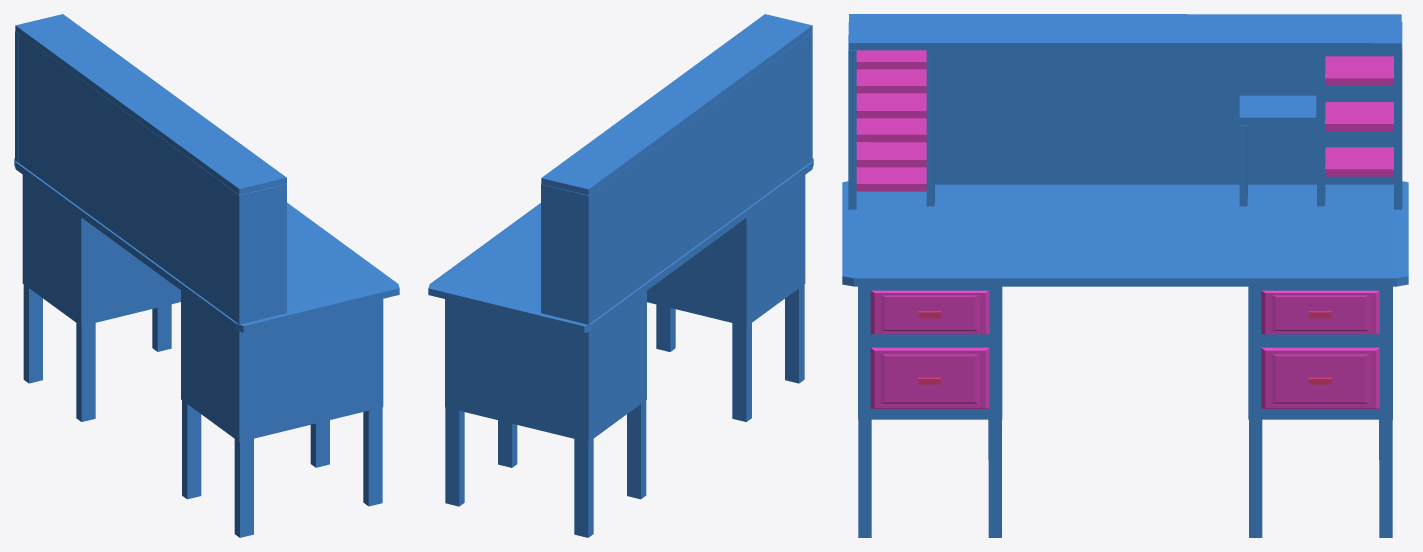
The model's file is adult desk.fbx.
3 renders of one model, left to right at view 1: azimuth 30°, elevation 25°; view 2: azimuth 150°, elevation 25°; view 3: azimuth 270°, elevation 25°, orthographic. The views are drawn at different scales.
Parts seen in each view (by area): view 1: top frame, big body, big body 2, desk top, short legs, short legs.001; view 2: top frame, big body 2, big body, desk top, short legs.001, short legs; view 3: top frame, desk top, tiny shelves, drawers, drawers.001, big body 2, big body, short legs, short legs.001.
Part boxes in pixels (left/top/right/bottom): top frame: left=15, top=14, right=286, bottom=324; big body: left=181, top=290, right=383, bottom=441; big body 2: left=22, top=175, right=180, bottom=326; desk top: left=14, top=158, right=399, bottom=332; short legs: left=182, top=400, right=382, bottom=537; short legs.001: left=23, top=284, right=171, bottom=421; top frame: left=541, top=14, right=812, bottom=324; big body 2: left=445, top=291, right=646, bottom=442; big body: left=647, top=175, right=805, bottom=326; desk top: left=428, top=158, right=813, bottom=332; short legs.001: left=445, top=400, right=646, bottom=537; short legs: left=656, top=284, right=804, bottom=421; top frame: left=848, top=14, right=1402, bottom=209; desk top: left=842, top=181, right=1408, bottom=286; tiny shelves: left=856, top=50, right=1393, bottom=191; drawers: left=870, top=290, right=989, bottom=408; drawers.001: left=1261, top=290, right=1379, bottom=408; big body 2: left=1248, top=286, right=1392, bottom=419; big body: left=858, top=286, right=1002, bottom=419; short legs: left=858, top=419, right=1001, bottom=537; short legs.001: left=1249, top=419, right=1392, bottom=537.
Size of the model in its own units: 263 by 545 by 642.
